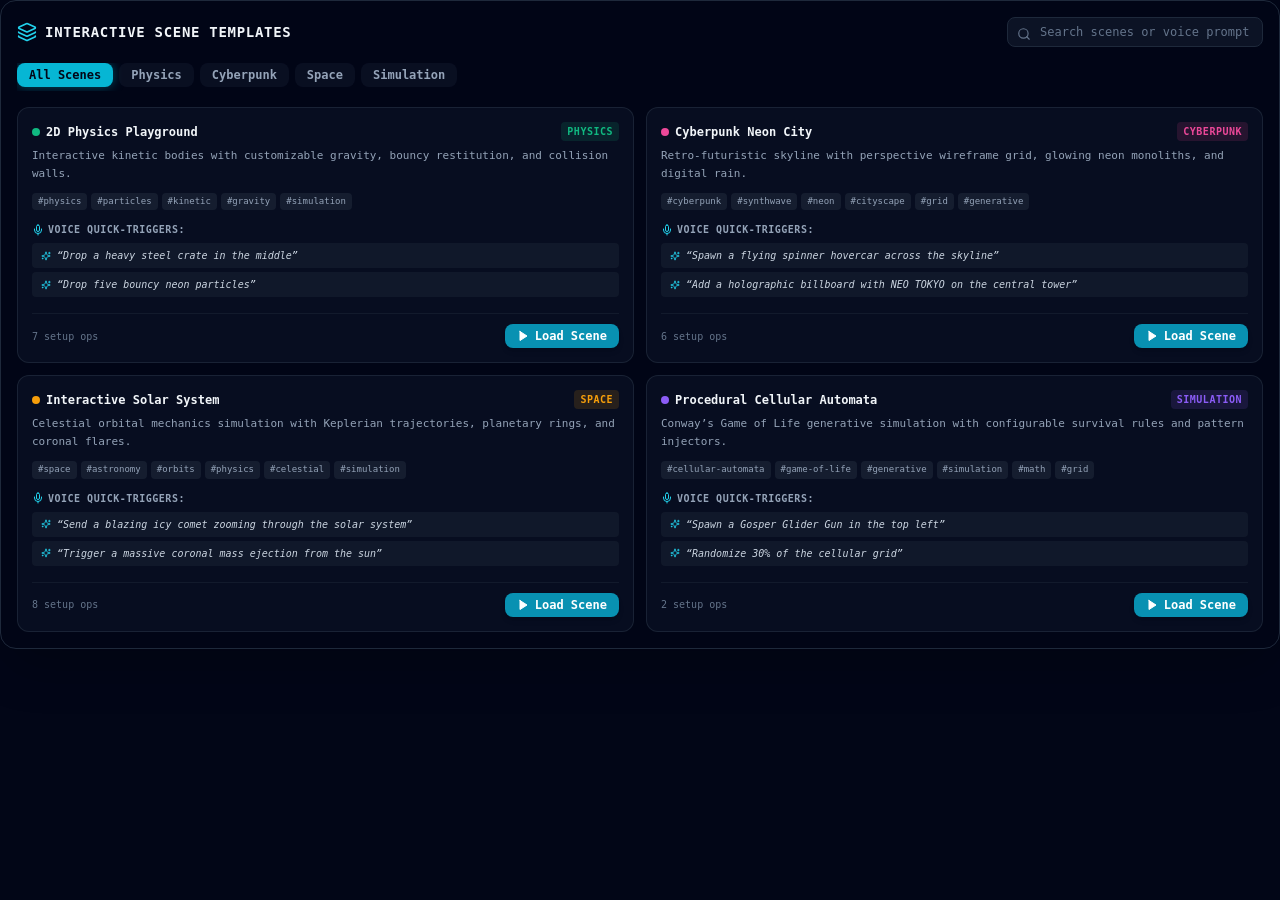
Test: TemplateSelector Component › should filter templates when a category tab is clicked
Click 'Space' category tab
Click the button with test id "category-tab-space": {"x": 325, "y": 75} [295, 63, 355, 87]
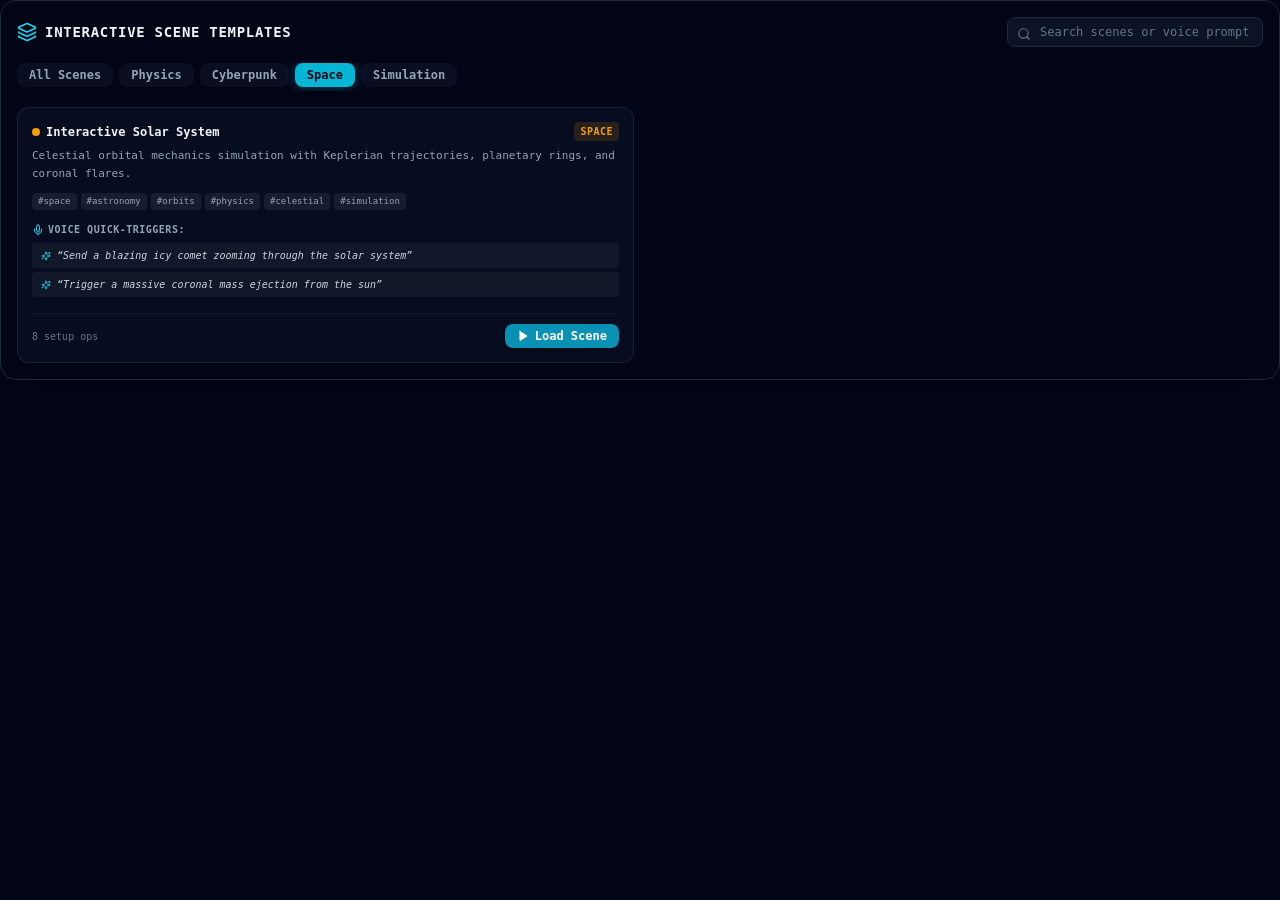
Expected: the element with test id "template-card-solar_system" is shown, [17, 107, 634, 363]
Expected: the element with test id "template-card-physics_playground" is gone
